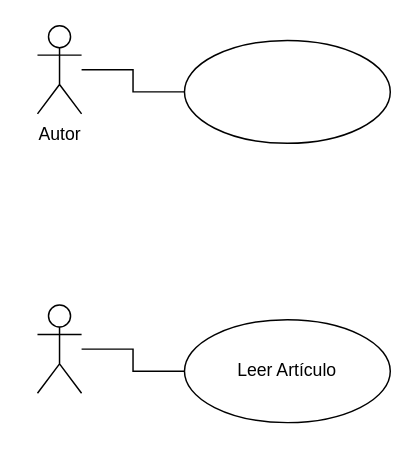
This 416x450 diagram has some shape labels left out. The shapes that lost their labels are listed below. From the top down, each one's box as (x1, y1, x2, y2) in pixels, then its label:
(183, 39, 390, 143): Publicar Artículo
(36, 304, 82, 393): Visitante
